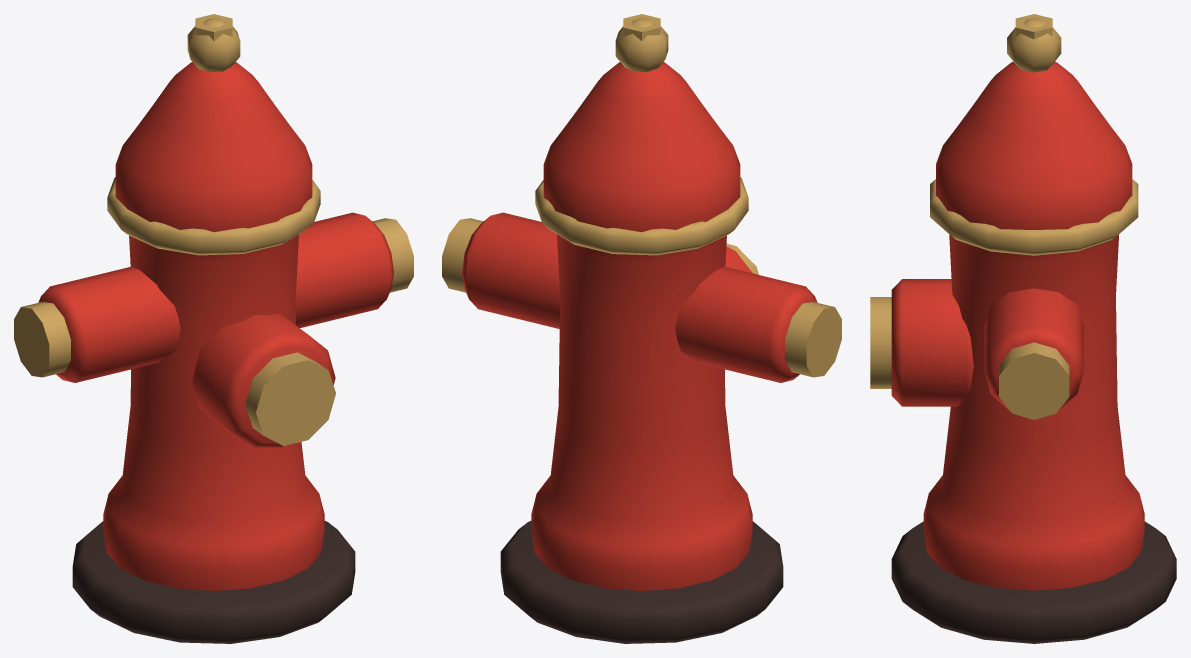
Rendered from fire_hydrant.glb.
The picture shows the model from 3 angles, left to right: view 1: azimuth 30°, elevation 25°; view 2: azimuth 150°, elevation 25°; view 3: azimuth 270°, elevation 25°; orthographic projection.
Parts seen in each view (by area): view 1: fire_hydrant; view 2: fire_hydrant; view 3: fire_hydrant.
Boxes of the visible parts, x1,y1,x2,y2 form: fire_hydrant: (14,14,413,643); fire_hydrant: (442,14,841,643); fire_hydrant: (870,14,1176,643).
Bounding box in the file's own units: 0.59 × 0.88 × 0.43.
